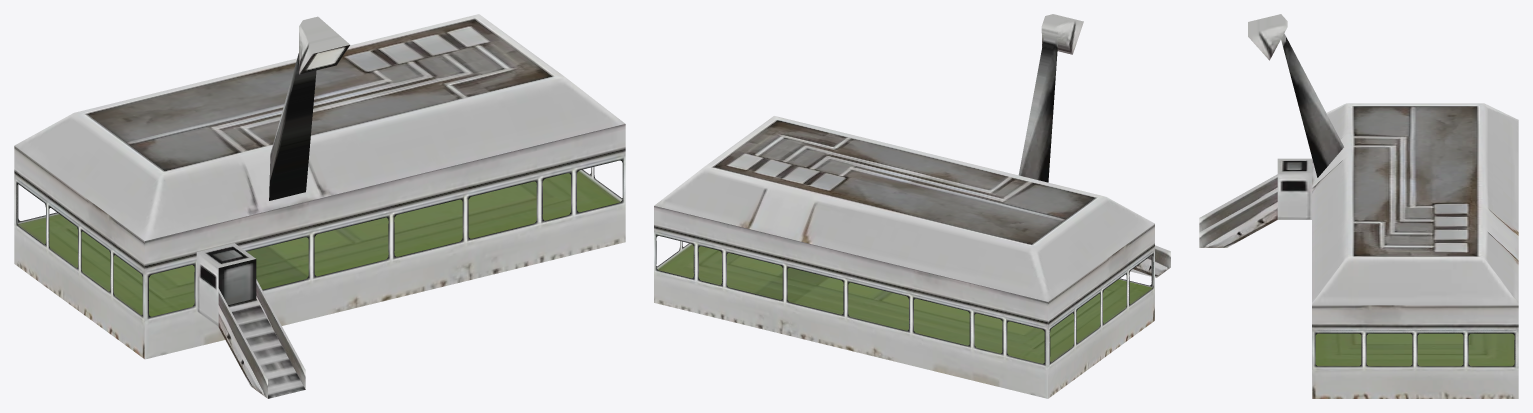
File: terminal1_hdtex.glb
3 views of the same model, side by side, from view 1: azimuth 30°, elevation 25°; view 2: azimuth 150°, elevation 25°; view 3: azimuth 270°, elevation 25° (orthographic). The views are drawn at different scales.
Visible parts, largest first — view 1: Terminal, Stairs, Externals; view 2: Terminal, Externals, Stairs; view 3: Terminal, Stairs, Externals.
Boxes of the visible parts, x1,y1,x2,y2 form: Terminal: (14, 14, 625, 359); Stairs: (196, 243, 305, 398); Externals: (269, 16, 349, 200); Terminal: (654, 116, 1154, 398); Externals: (1018, 14, 1083, 182); Stairs: (1130, 245, 1170, 277); Terminal: (1312, 103, 1518, 398); Stairs: (1199, 158, 1311, 247); Externals: (1248, 14, 1343, 177).
Size of the model in its own units: 25.5 by 16.21 by 18.54.
Materials: 1 (1 with a texture image).
